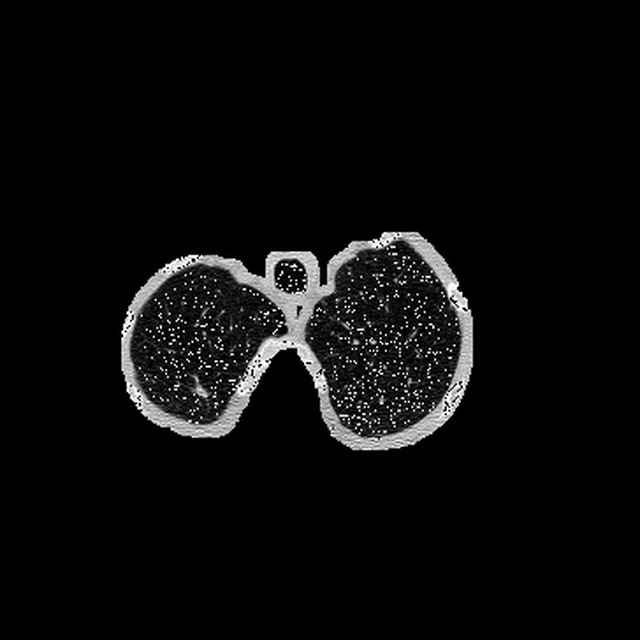PN: (193, 383, 207, 397)
